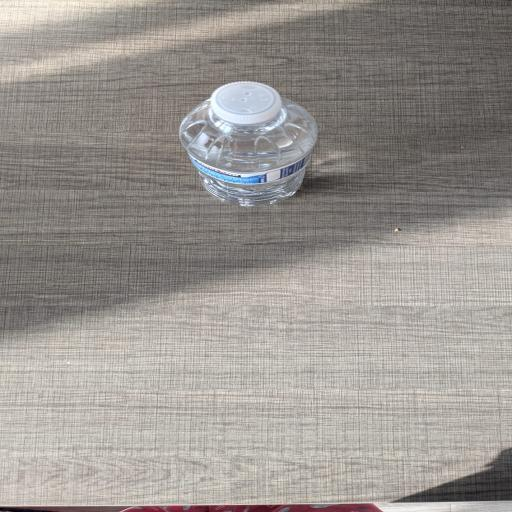waterbottle: (180, 82, 317, 206)
